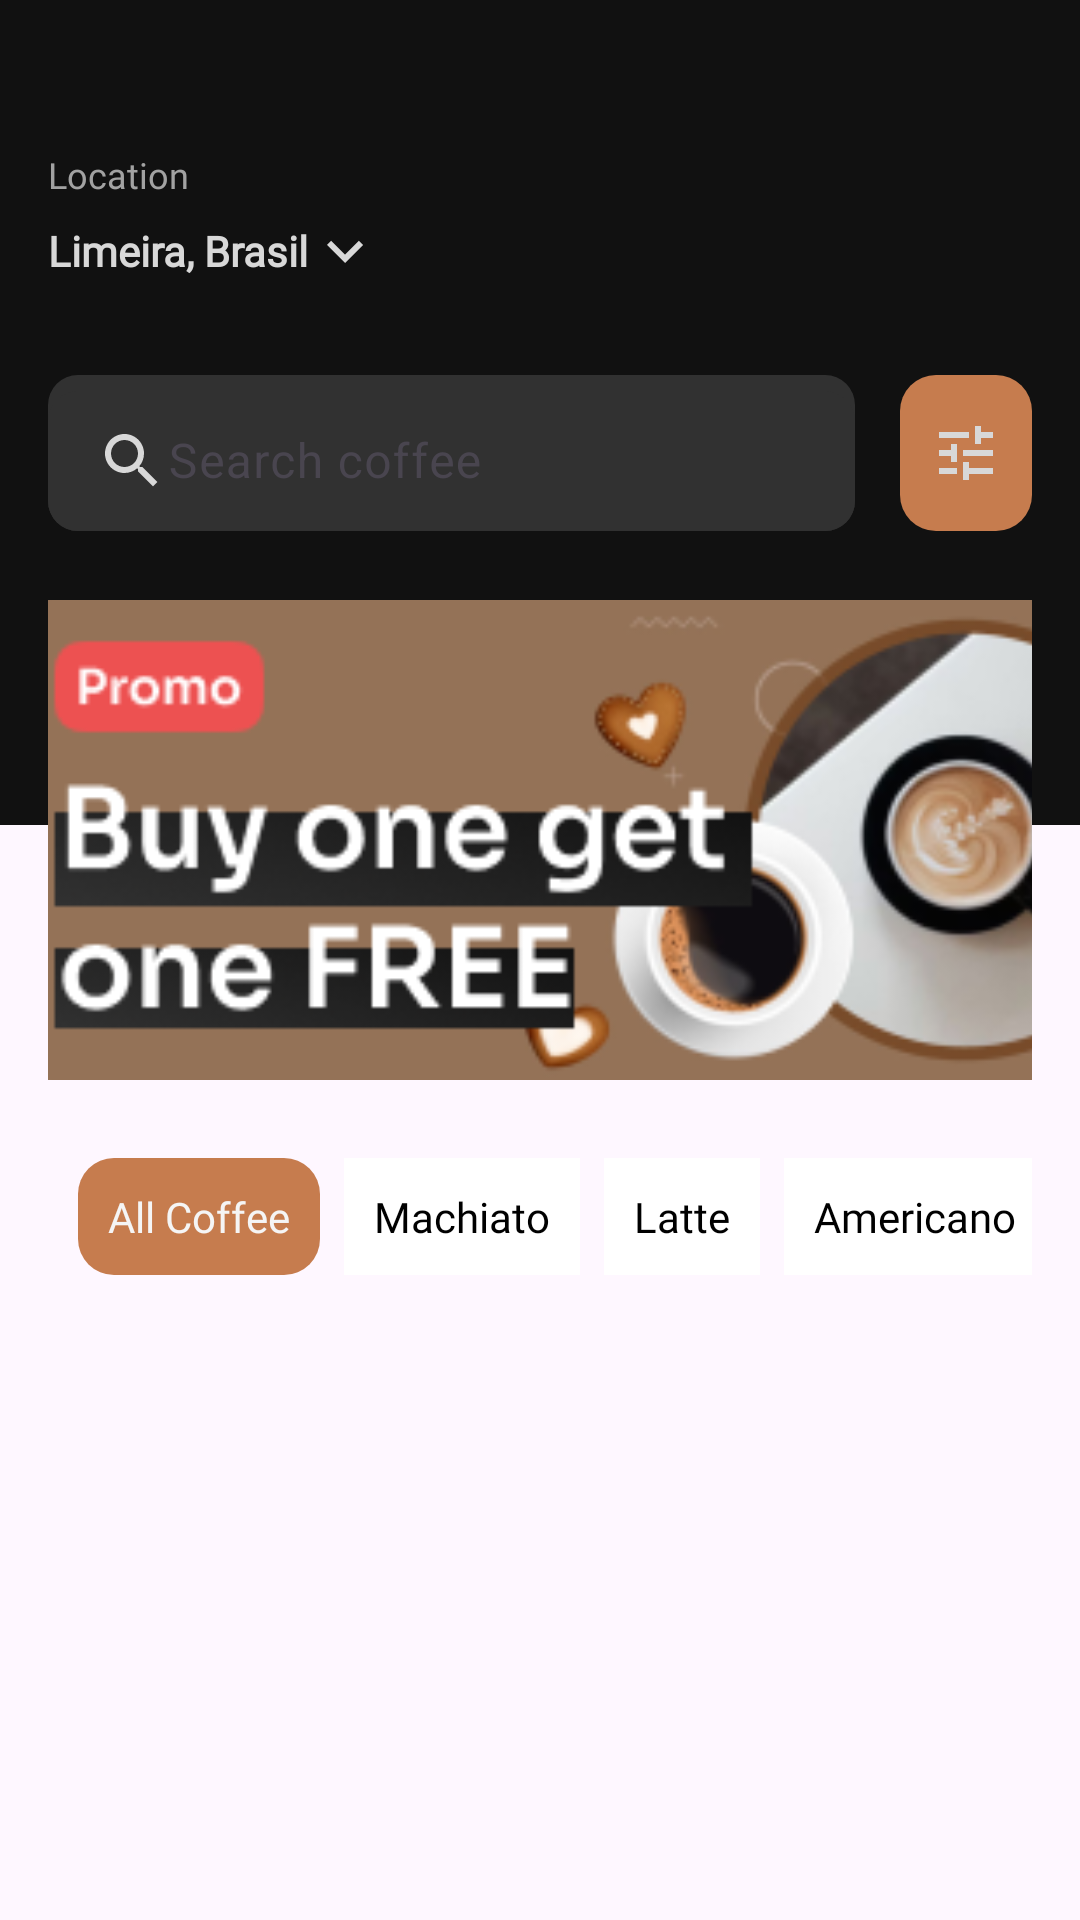

Locate icon controls on the screen. Image size 1080*1920, boxes as box=[x1, y1, x2, y2].
arrow down: box=[327, 241, 363, 263]
tune: box=[900, 375, 1032, 531]
